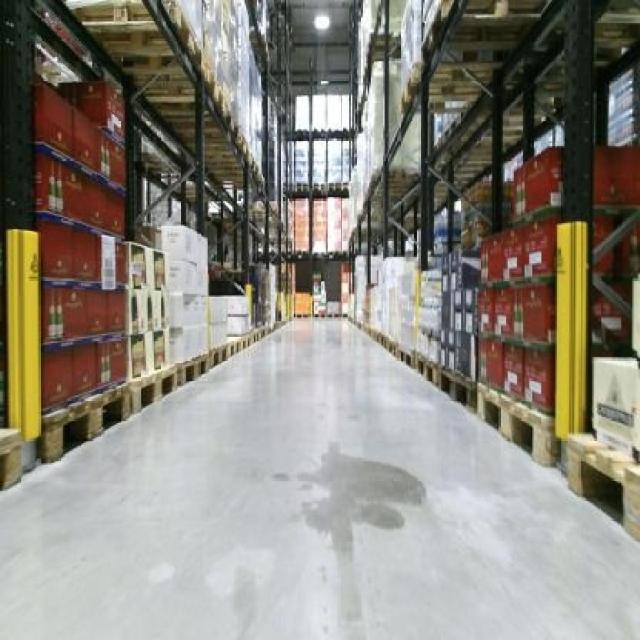floor: (0, 317, 637, 637)
